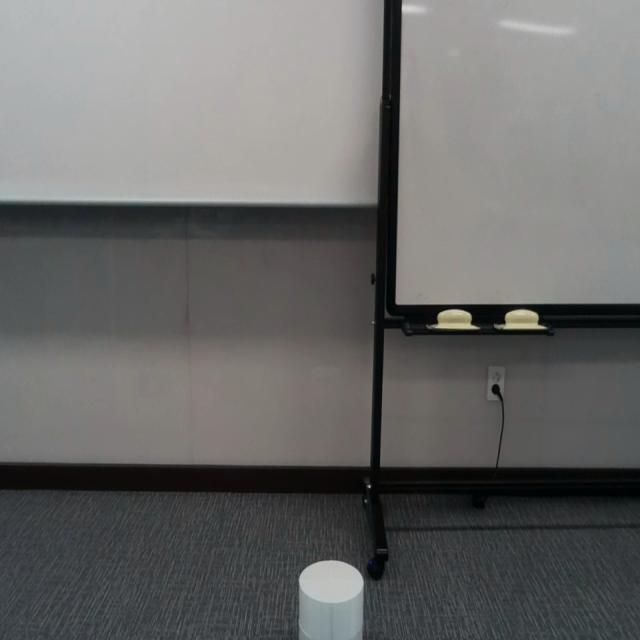cylinder: (297, 560, 363, 640)
